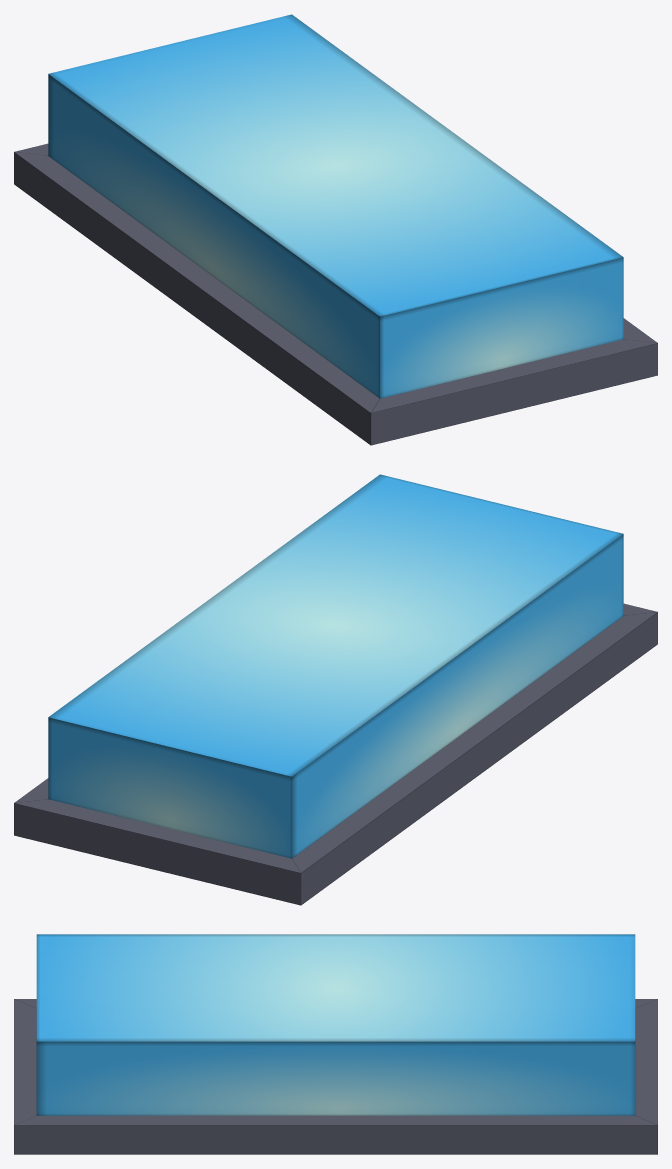
File: Button_Rectangular_Blue.FBX
The picture shows the model from 3 angles, top to bottom: view 1: azimuth 30°, elevation 25°; view 2: azimuth 150°, elevation 25°; view 3: azimuth 270°, elevation 25°; orthographic projection. The views are drawn at different scales.
Parts seen in each view (by area): view 1: Push_Me, Button_Rectangular_Blue; view 2: Push_Me, Button_Rectangular_Blue; view 3: Push_Me, Button_Rectangular_Blue.
Boxes of the visible parts, left/top/right/bottom form: Push_Me: left=48, top=14, right=623, bottom=398; Button_Rectangular_Blue: left=14, top=143, right=657, bottom=445; Push_Me: left=48, top=474, right=623, bottom=858; Button_Rectangular_Blue: left=14, top=603, right=657, bottom=905; Push_Me: left=36, top=934, right=635, bottom=1115; Button_Rectangular_Blue: left=14, top=999, right=657, bottom=1154.
Bounding box in the file's own units: 0.0922 × 0.0351 × 0.1985.
